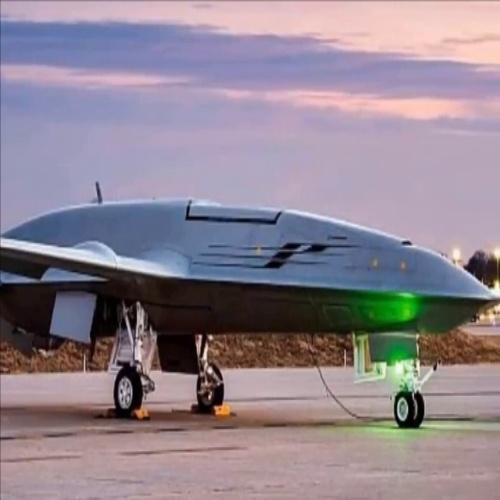uav: (1, 179, 496, 434)
